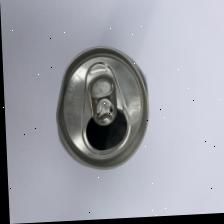metal: (36, 36, 157, 185)
